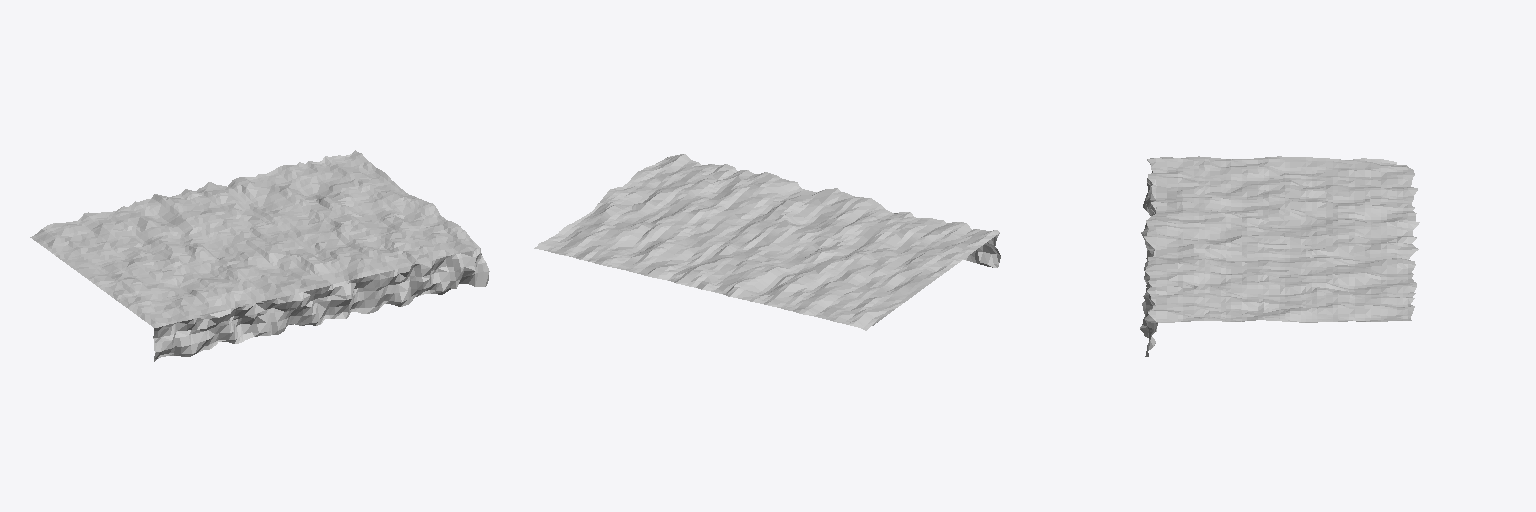
The model's file is FloorNoBackSidesSmaller.obj.
The picture shows the model from 3 angles: view 1: azimuth 30°, elevation 25°; view 2: azimuth 150°, elevation 25°; view 3: azimuth 270°, elevation 25°; orthographic projection.
Parts seen in each view (by area): view 1: box_object1; view 2: box_object1; view 3: box_object1.
Boxes of the visible parts, x1,y1,x2,y2 form: box_object1: [30, 150, 489, 361]; box_object1: [534, 154, 1000, 330]; box_object1: [1140, 156, 1419, 356].
Size of the model in its own units: 50.37 by 6.16 by 36.49.